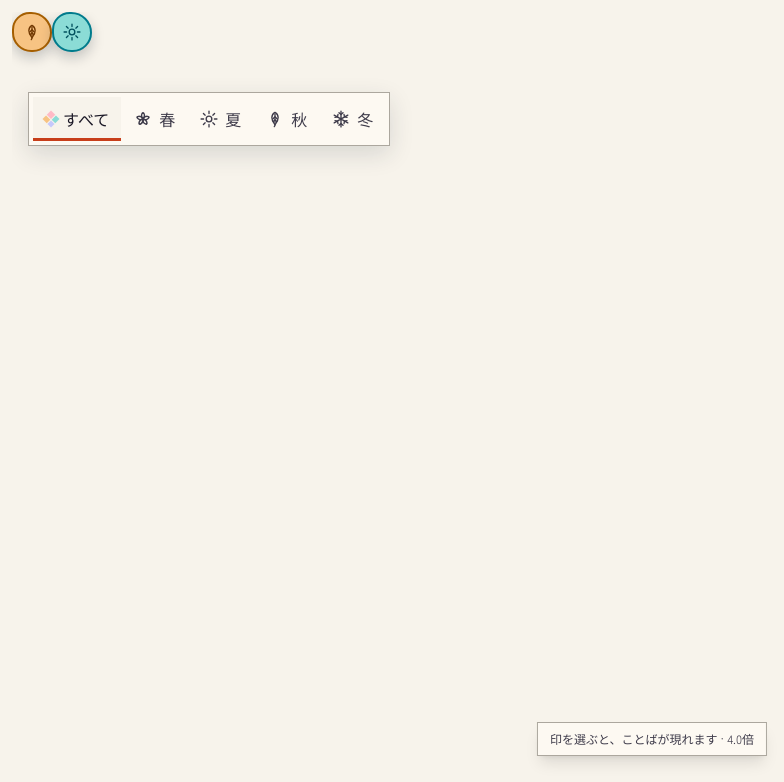
Scenario: SeasonMapView › filters API pins and reveals a selected comment without moving the map
Click the button "秋" at (286, 119), box 253,97 -> 319,141
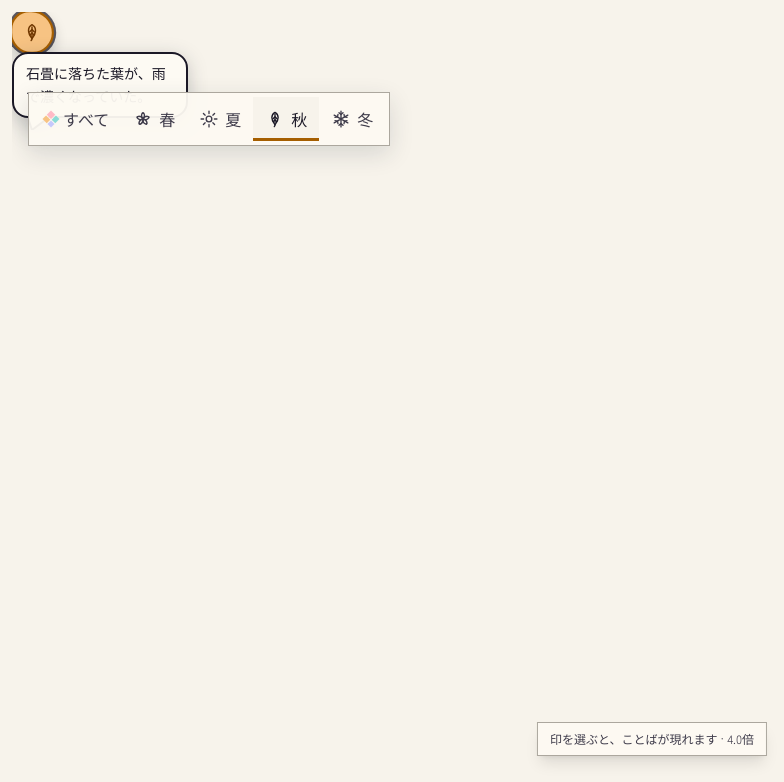
Result: the button "夏の気配「夕立のあと、風が青く匂った。」を読む" is gone
Result: the text "石畳に落ちた葉が、雨で濃くなっていた。" is shown at 12,52 -> 188,118
Result: the button named "秋の気配「石畳に落ちた葉が、雨で濃くなっていた。」を読む" is expanded at 12,12 -> 54,54
